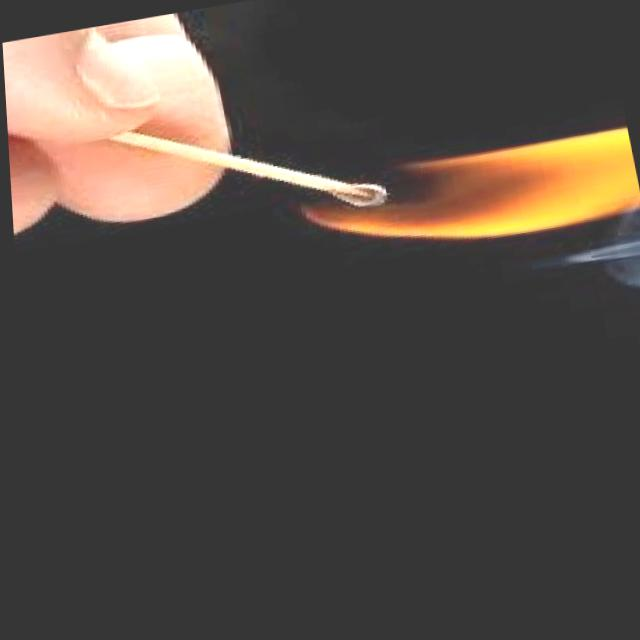Fire: (297, 128, 640, 283)
